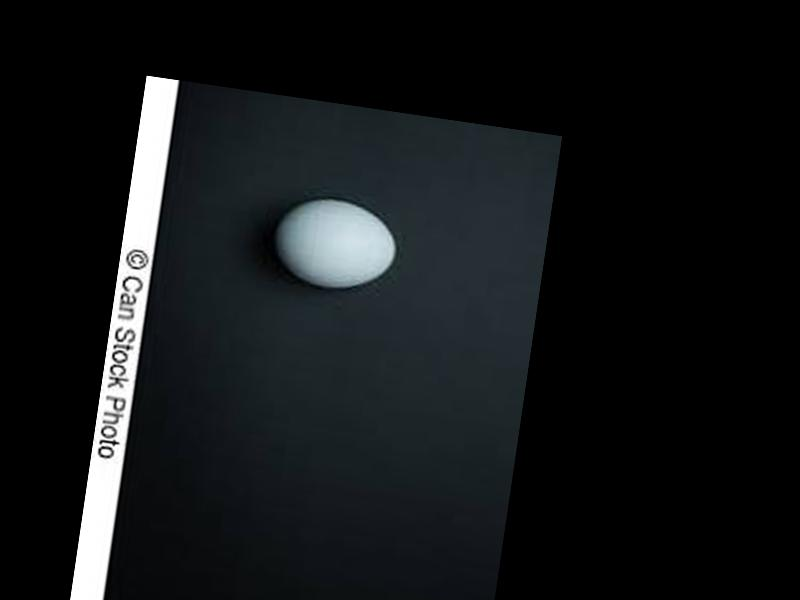Eggs: (270, 190, 402, 295)
